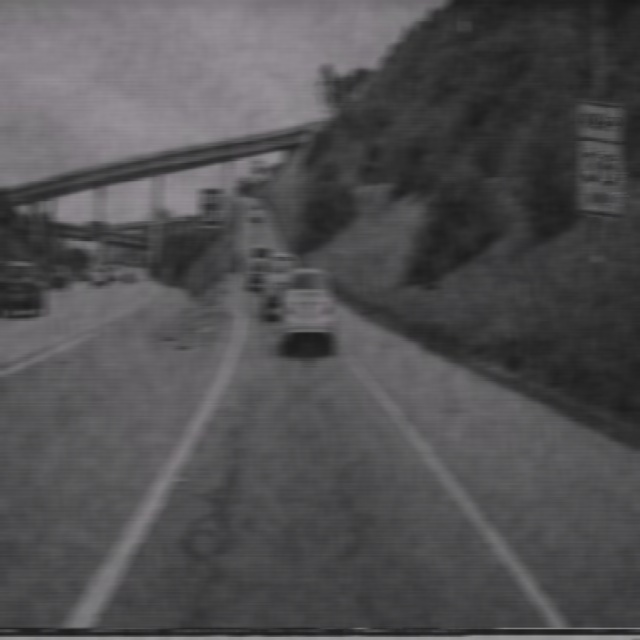rampSpeedAdvisory35: (576, 97, 624, 222)
